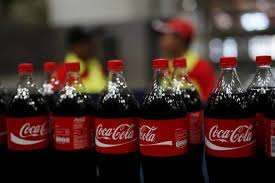coke-bottle-300ml: (198, 51, 260, 180), (141, 54, 189, 180), (6, 60, 50, 183), (96, 57, 139, 179), (54, 60, 96, 180)
